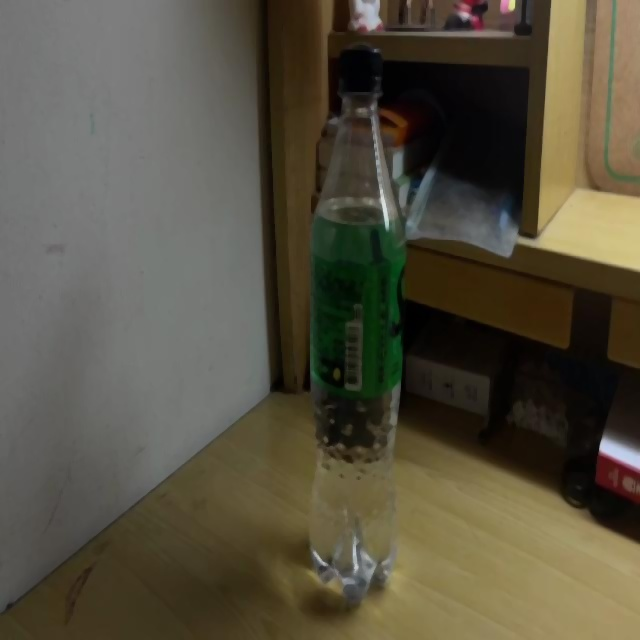Sprite: (309, 46, 406, 614)
